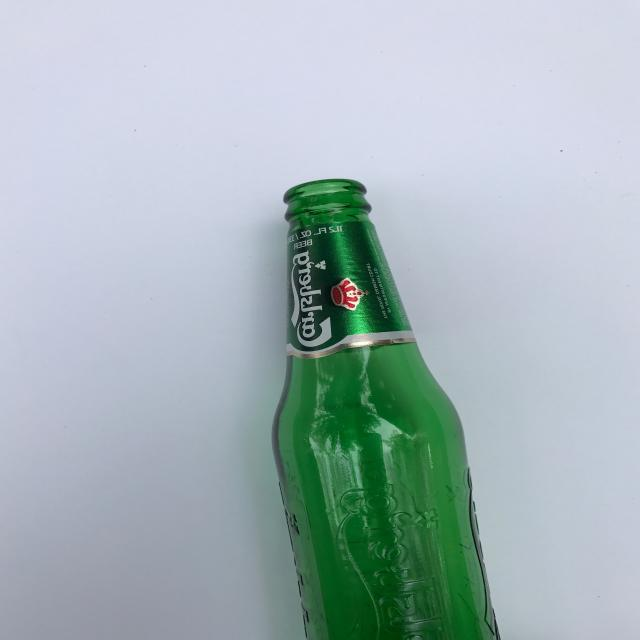glass: (271, 177, 508, 640)
